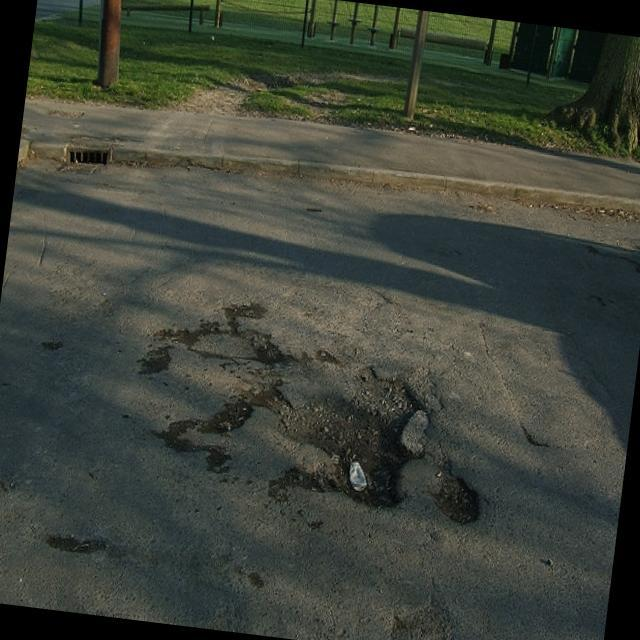Pothole: (294, 360, 500, 539), (165, 292, 308, 460)
